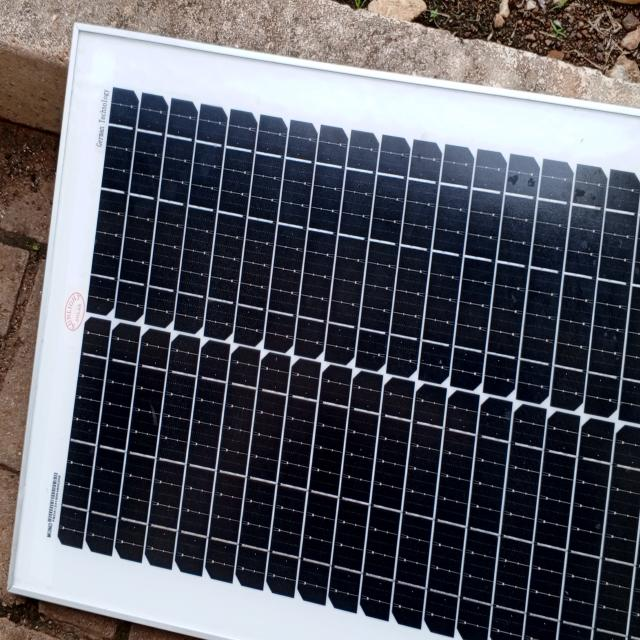Clean: (89, 147, 628, 575)
